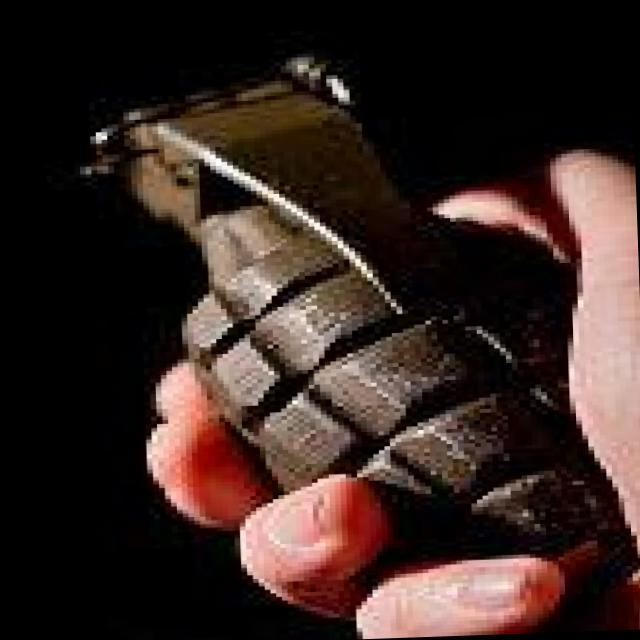grenade: (64, 46, 640, 600)
